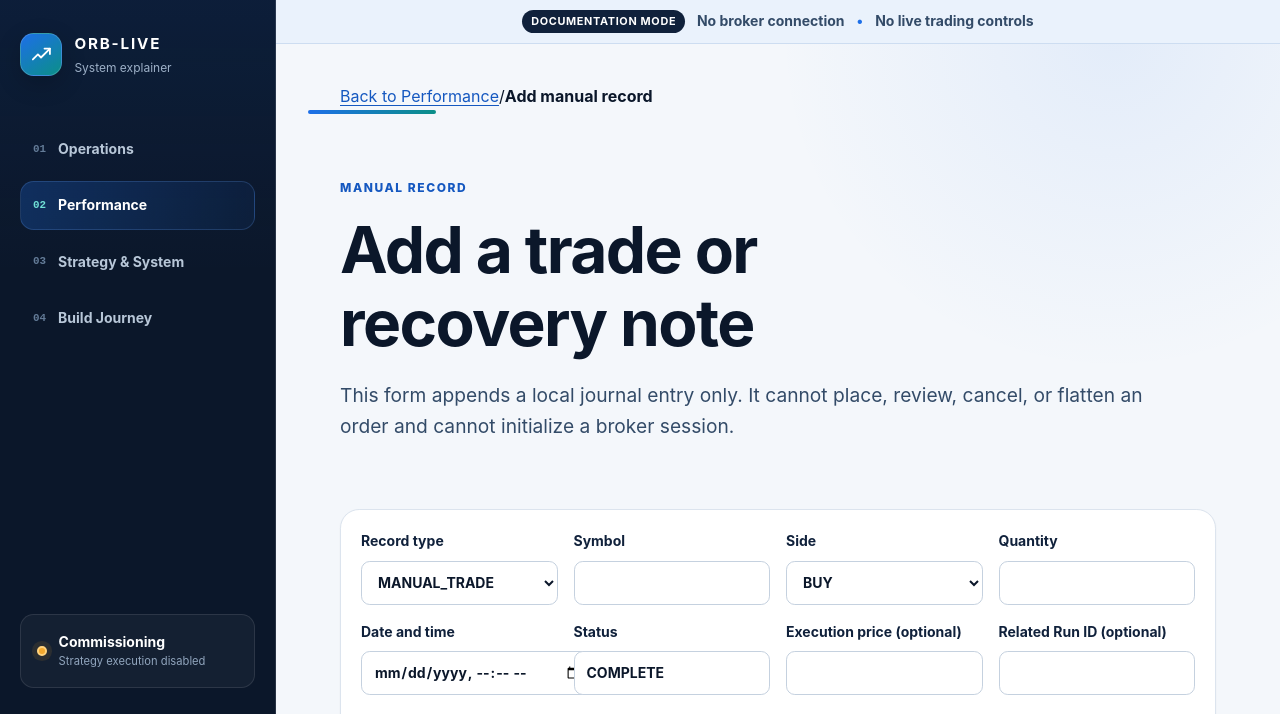
Test: trade journal workflow › creates a validated manual trade
Type "aapl" into the field labelled "Symbol" at (672, 583), box [574,561,770,605]
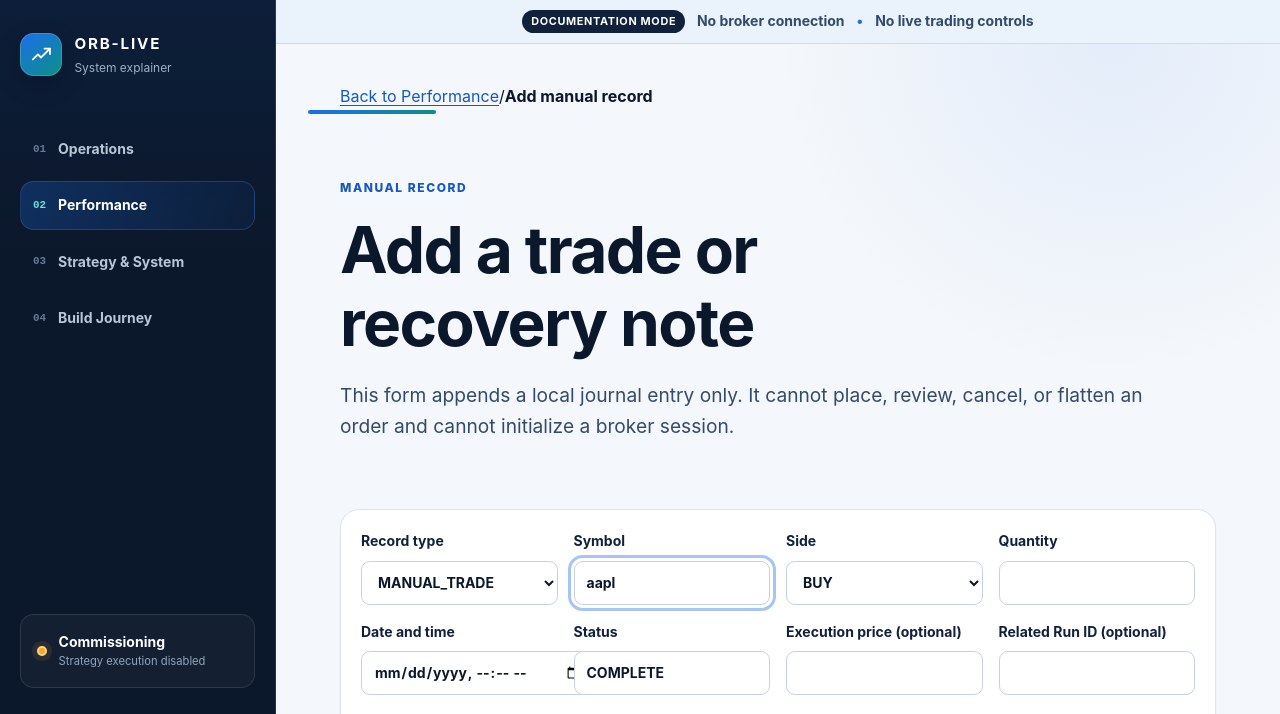
Type "2.50" into the field labelled "Quantity" at (1097, 583), box [998,561,1195,605]
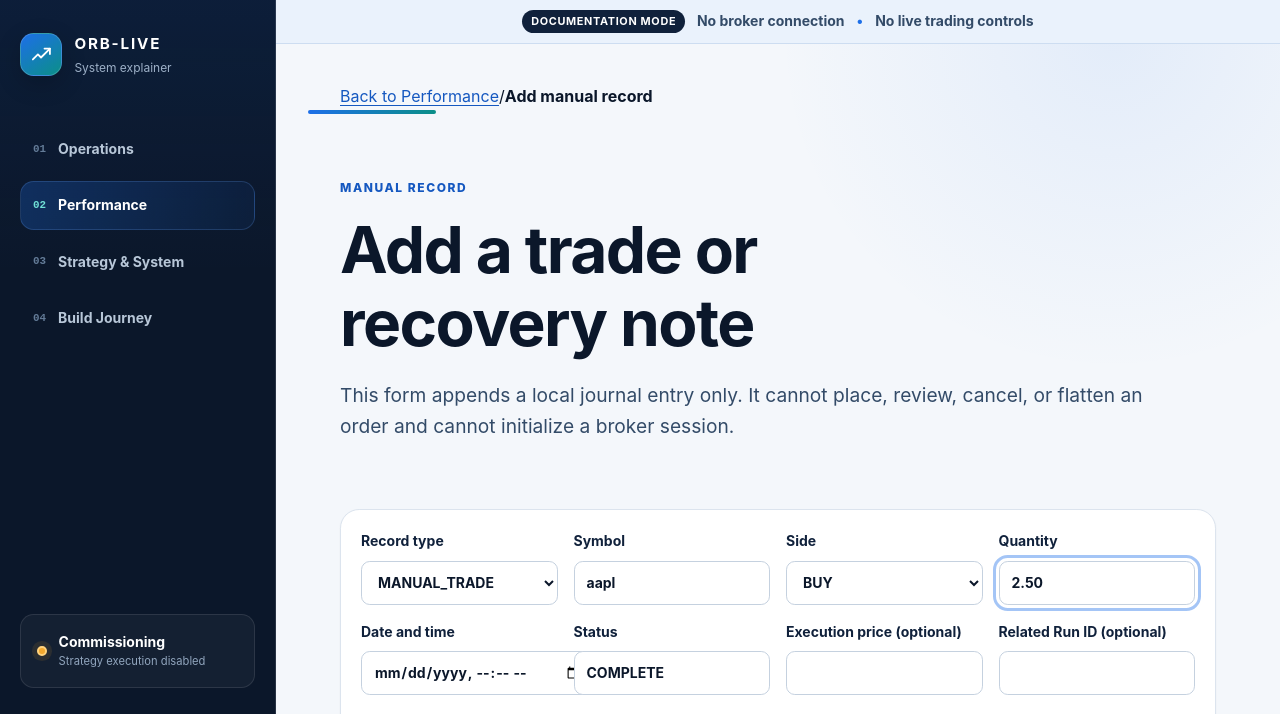
Type "2026-01-02T10:30" into the field labelled "Date and time" at (478, 673), box [361,651,595,695]
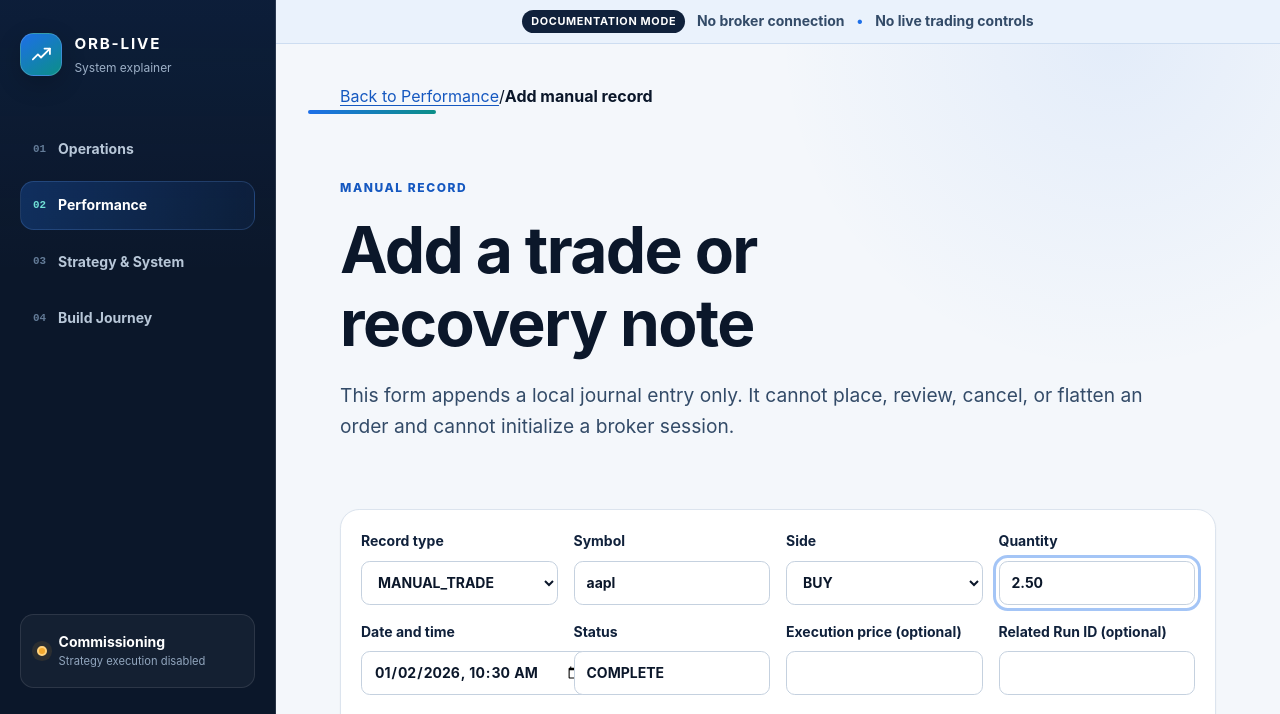
Type "12.25" into the field labelled "Execution price (optional)" at (884, 673), box [786,651,982,695]
(page scrolled)
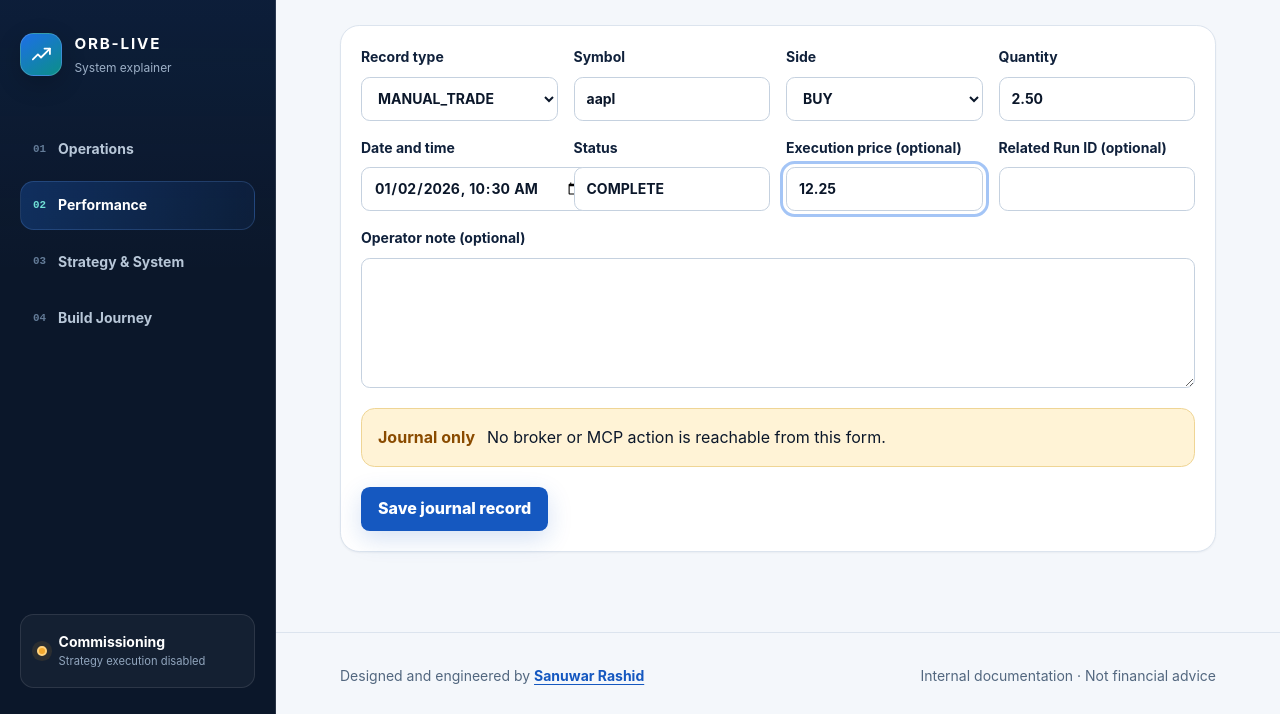
Click the button "Save journal record" at (455, 509), box [361,487,548,531]
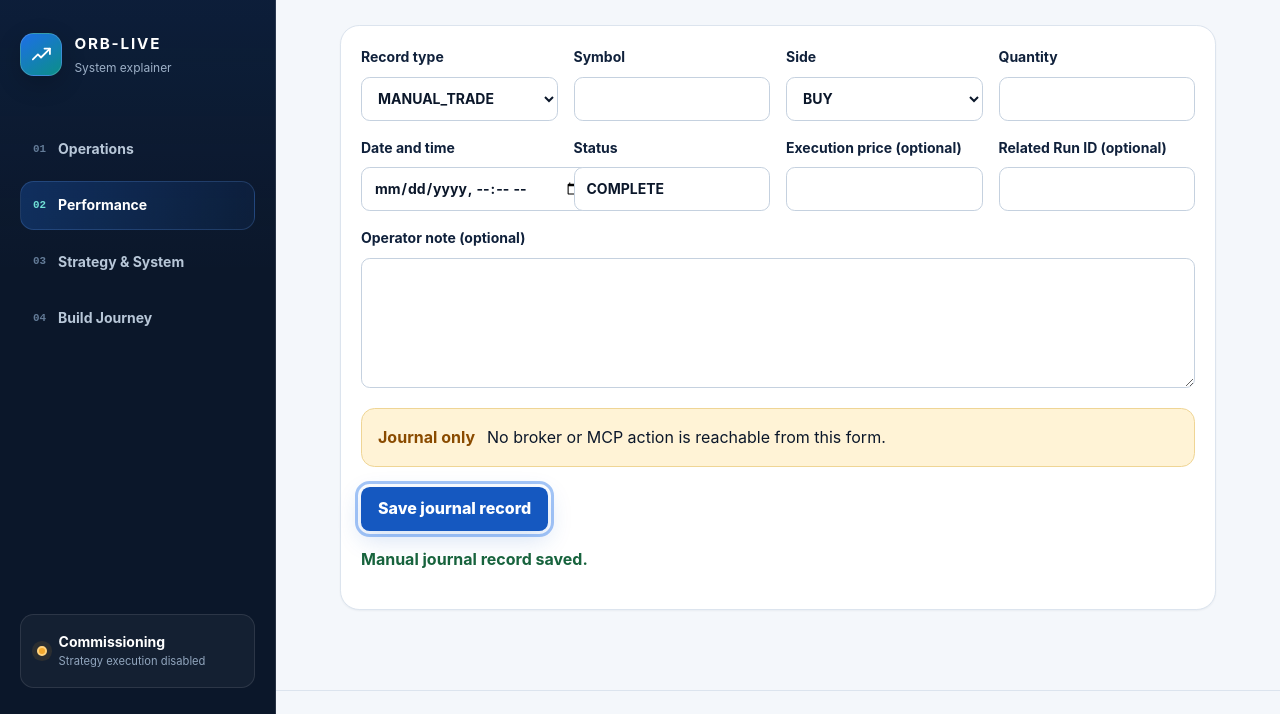
Now the text "Manual journal record saved." is shown, box [361,549,588,569]
